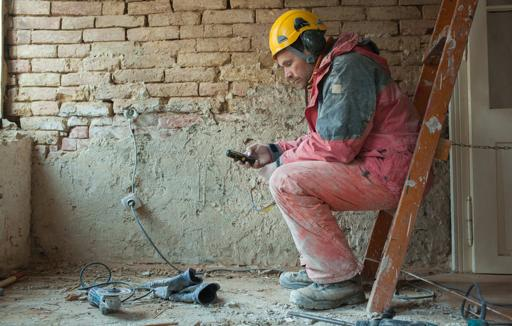safe person: (266, 12, 404, 317)
